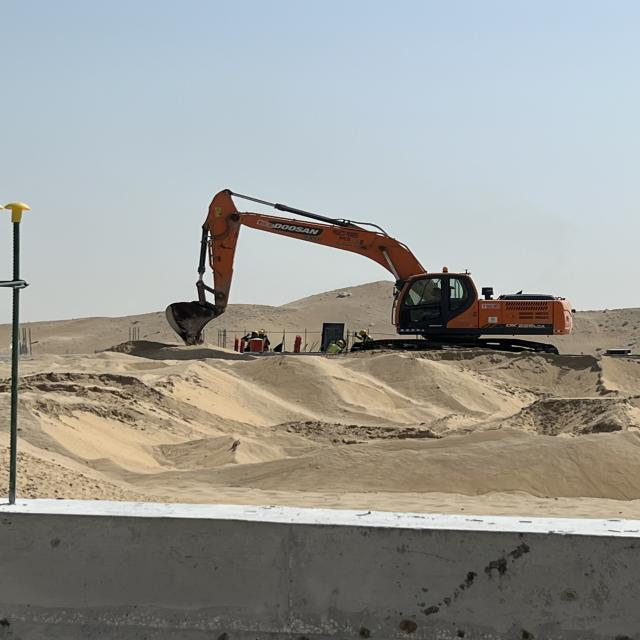excavator: (164, 186, 574, 369)
